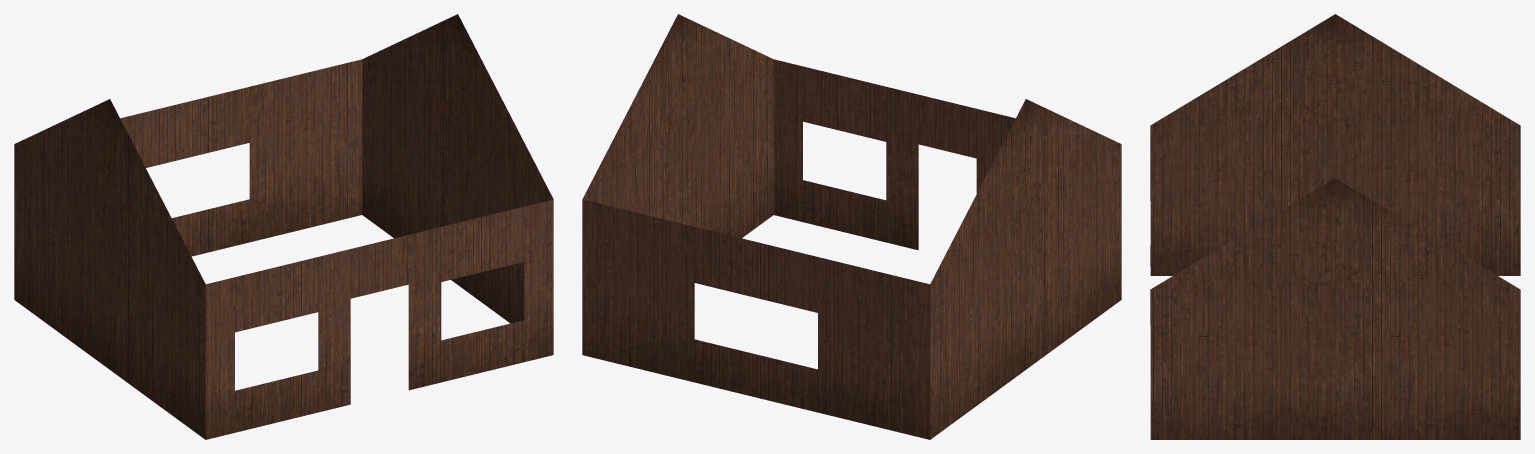
Rendered from cabinWallsInterior_01_LOD1.FBX.
3 renders of one model, left to right at view 1: azimuth 30°, elevation 25°; view 2: azimuth 150°, elevation 25°; view 3: azimuth 270°, elevation 25°, orthographic. The views are drawn at different scales.
Visible parts, largest first — view 1: cabinWallsInterior_01_LOD1; view 2: cabinWallsInterior_01_LOD1; view 3: cabinWallsInterior_01_LOD1.
Part boxes in pixels (<box>): cabinWallsInterior_01_LOD1: <box>14,14,553,439</box>; cabinWallsInterior_01_LOD1: <box>582,14,1121,439</box>; cabinWallsInterior_01_LOD1: <box>1150,14,1520,439</box>.
Size of the model in its own units: 40.5 by 30.15 by 38.61.
Materials: 1 (1 with a texture image).
